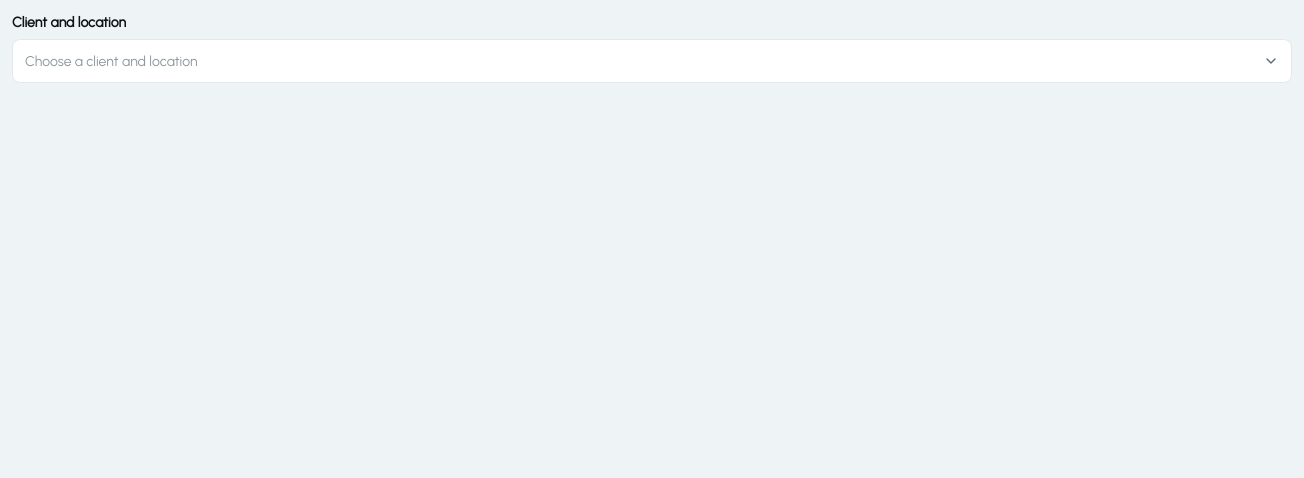
Scenario: ClientLocationPicker › groups locations under short client ids and returns the picked pair
Later steps or results of the test are not shown.
Click the button "Choose a client and location".
click(111, 61)  # box [12,39,1292,83]
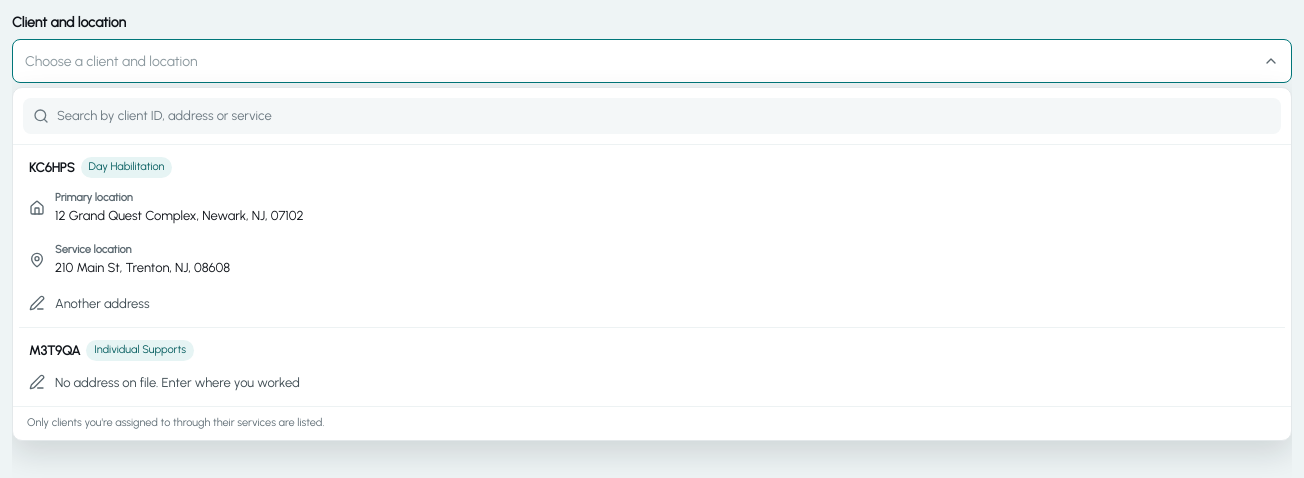
Now the element "KC6HPS" is shown, box [19,151,1285,321]
Now the text "No address on file. Enter where you worked" is shown, box [55,374,300,390]
